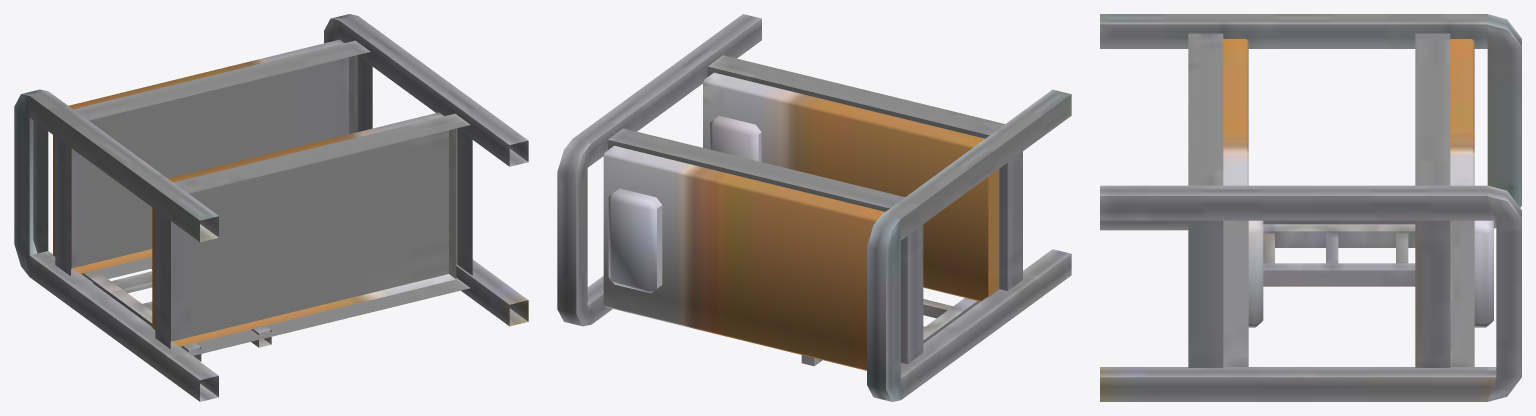
3 views of the same model, side by side, from view 1: azimuth 30°, elevation 25°; view 2: azimuth 150°, elevation 25°; view 3: azimuth 270°, elevation 25° (orthographic). The views are drawn at different scales.
Visible parts, largest first — view 1: 带短梯子的上下铺, 梯子; view 2: 带短梯子的上下铺, 梯子; view 3: 带短梯子的上下铺, 梯子.
Boxes of the visible parts, x1,y1,x2,y2 form: 带短梯子的上下铺: (14,14,528,401); 梯子: (82,268,271,361); 带短梯子的上下铺: (557,14,1071,401); 梯子: (801,298,980,366); 带短梯子的上下铺: (1100,14,1521,401); 梯子: (1263,224,1415,286).
Size of the model in its own units: 208 by 111 by 204.
1 material, 1 textured.
